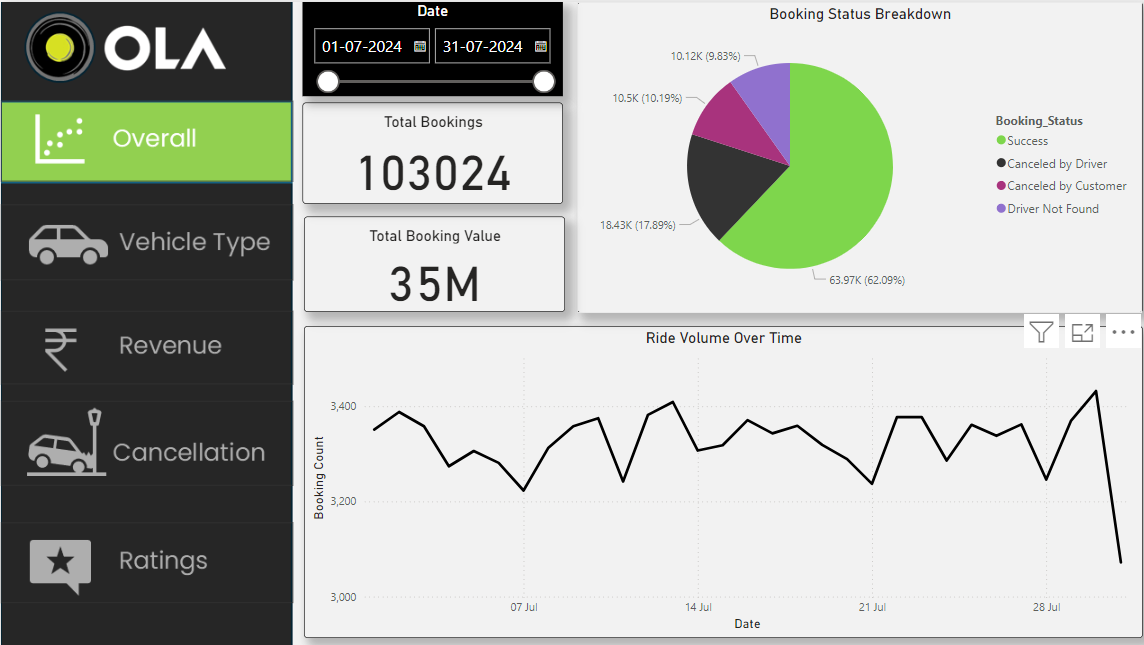

The page's visual inventory and layout, read from the dashboard file:
{"tool":"powerbi","page":{"name":"Overall","canvas":[1280,720],"ordinal":0},"visuals":[{"type":"actionButton","box":[0,224.3,324.5,84.3],"z":0},{"type":"actionButton","box":[0,443.8,324.5,93.8],"z":1000},{"type":"actionButton","box":[0,343.6,324.5,81.1],"z":2000},{"type":"actionButton","box":[0,579,324.5,89.1],"z":3000},{"type":"actionButton","box":[0,109.8,324.5,89.1],"z":4000},{"type":"lineChart","title":"Ride Volume Over Time","fields":{"Y":["CountNonNull(Bookings.Booking_ID)"],"Category":["Bookings.Date"]},"box":[336.7,360,931.7,346.7],"z":5000},{"type":"pieChart","title":"Booking Status Breakdown","fields":{"Category":["Bookings.Booking_Status"],"Y":["CountNonNull(Bookings.Booking_Status)"]},"box":[640,0,628.3,345],"z":6000},{"type":"slicer","title":"Date","fields":{"Values":["Bookings.Date"]},"box":[335.6,0,289.5,105],"z":7000},{"type":"card","title":"Total Bookings","fields":{"Values":["CountNonNull(Bookings.Booking_ID)"]},"box":[335.6,111.3,289.5,112.9],"z":8000},{"type":"card","title":"Total Booking Value","fields":{"Values":["Sum(Bookings.Booking_Value)"]},"box":[336,238,290,106],"z":9000}]}

Visuals, with their boxes in screenshot pixels (x1, y1, x2, y2), scaled from the page's 1280x720 canvas onto the 1144x645 screenshot:
actionButton: (left=0, top=201, right=290, bottom=276)
actionButton: (left=0, top=398, right=290, bottom=482)
actionButton: (left=0, top=308, right=290, bottom=380)
actionButton: (left=0, top=519, right=290, bottom=599)
actionButton: (left=0, top=98, right=290, bottom=178)
"Ride Volume Over Time" lineChart: (left=301, top=322, right=1134, bottom=633)
"Booking Status Breakdown" pieChart: (left=572, top=0, right=1134, bottom=309)
"Date" slicer: (left=300, top=0, right=559, bottom=94)
"Total Bookings" card: (left=300, top=100, right=559, bottom=201)
"Total Booking Value" card: (left=300, top=213, right=559, bottom=308)
